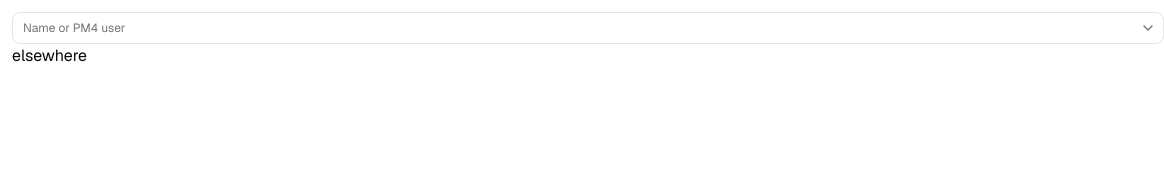
Test: ProjectLeadField (feat-prj-web) › AC-7 FR-PRJ-006: empty → me (me); 1 char → only Use; 2 chars → one debounced search, users then Use
Press ArrowDown in the dropdown, box [13,12,1136,44]
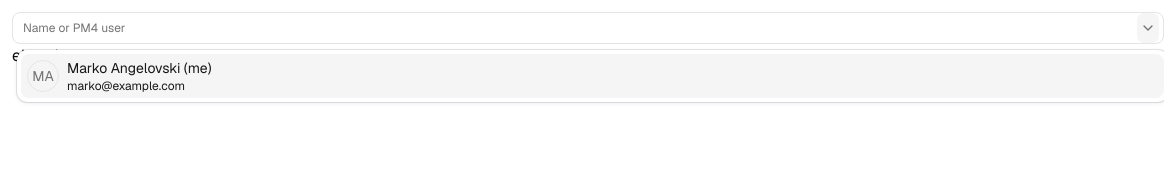
Expected: the option reads "MA Marko Angelovski (me) marko@example.com", [21,54,1163,98]
In the dropdown: (574, 28) [13,12,1136,44], type "a"
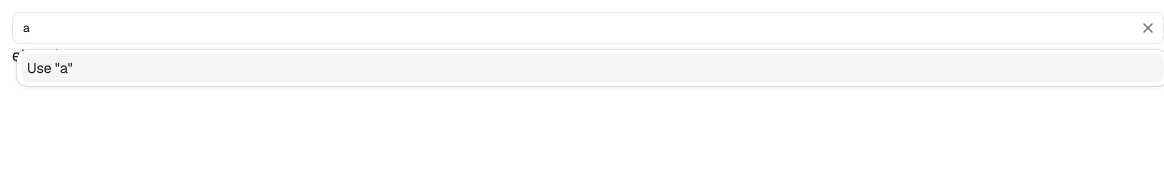
Press ArrowDown in the dropdown, box [13,12,1128,44]
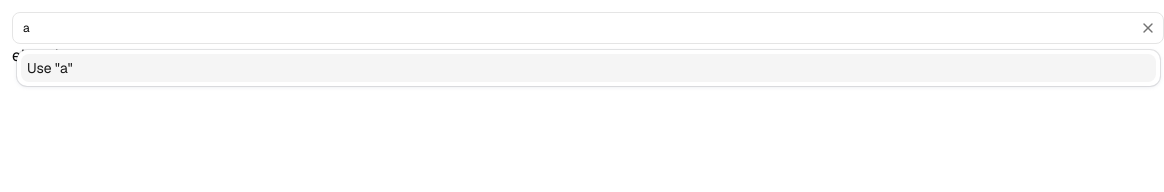
Replace the text in the dropdown with "an": (570, 28) [13,12,1128,44]
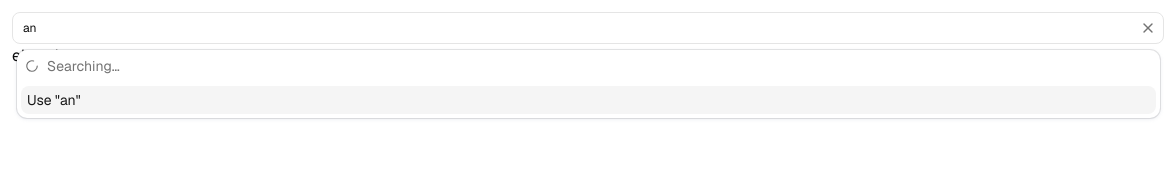
Press ArrowDown in the dropdown, box [13,12,1128,44]
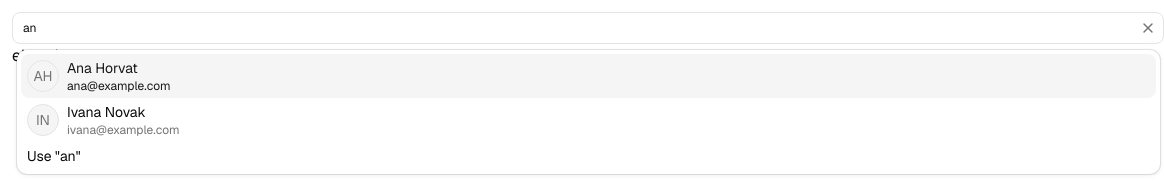
Expected: the text "Use \"an\"" is shown, [27,146,81,166]
Expected: the option "AH Ana Horvat ana@example.com" is shown, [21,54,1156,98]
Expected: the option "IN Ivana Novak ivana@example.com" is shown, [27,103,179,138]
